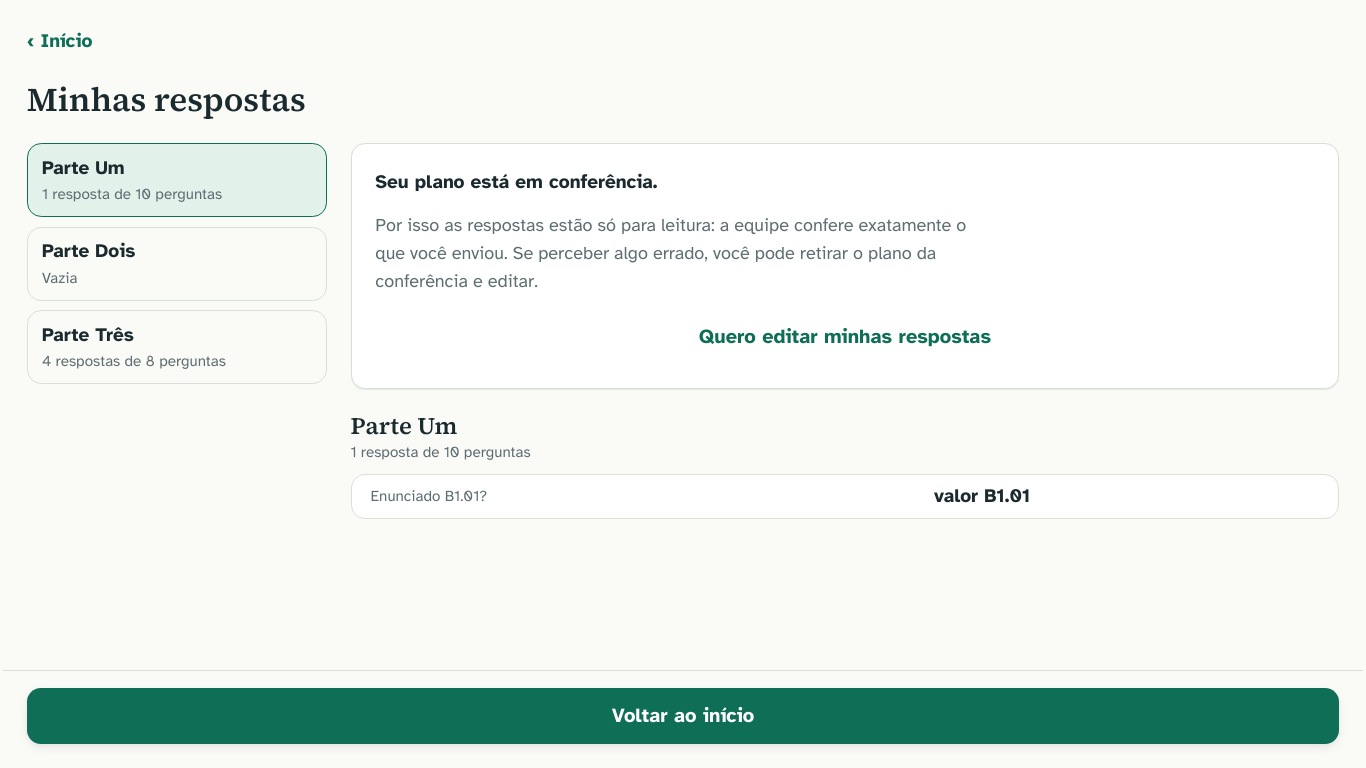
TelaRespostas — só leitura em conferência (T-337, RF-114/RF-115) › cancelar não retira nada
Click the button "Quero editar minhas respostas" at (845, 337), box [375,310,1315,364]
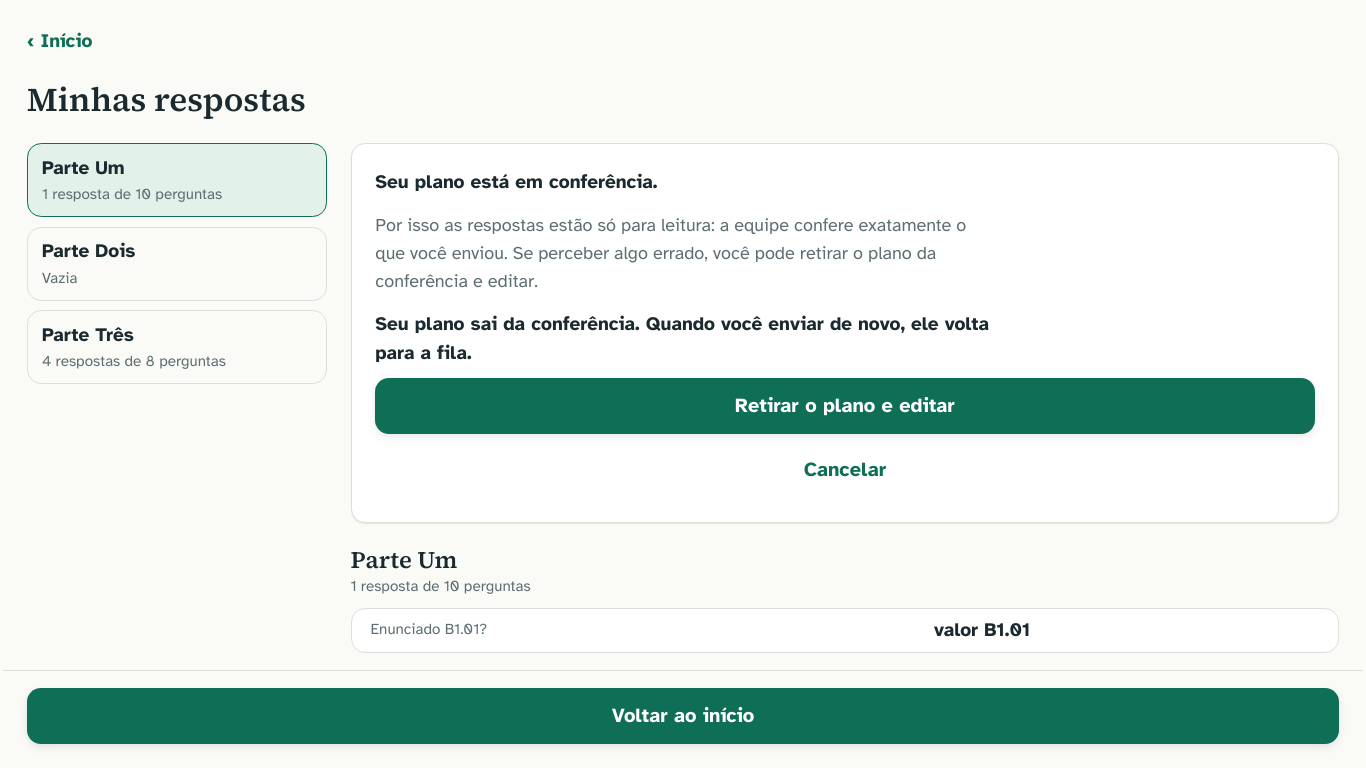
Click the button "Cancelar" at (845, 471), box [375,444,1315,498]
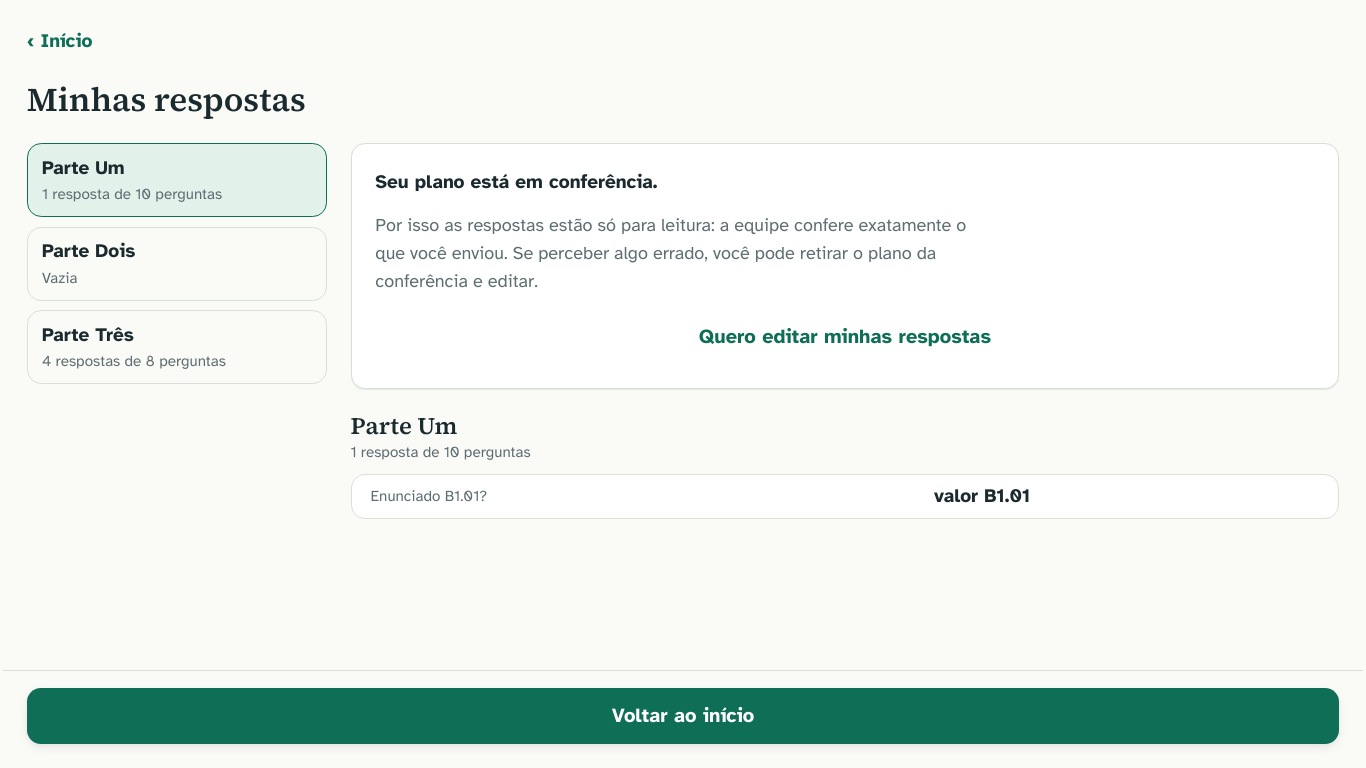
Result: the button "Quero editar minhas respostas" is shown at [375,310,1315,364]
